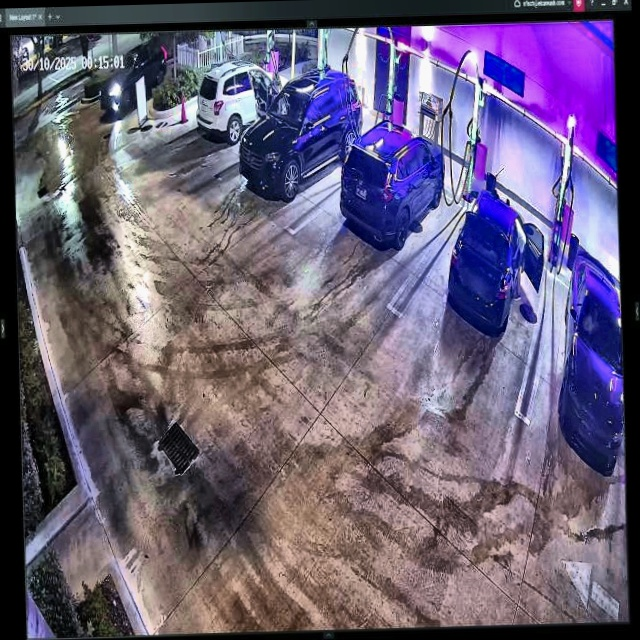Car: (240, 65, 364, 196), (336, 118, 447, 251), (443, 185, 547, 324)
